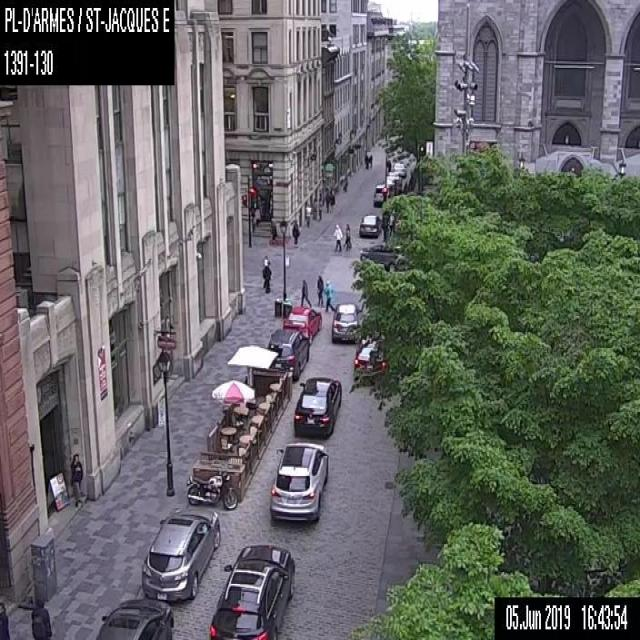pedestrian: (29, 598, 51, 638), (69, 452, 83, 509), (322, 280, 335, 312), (0, 601, 10, 639), (262, 259, 272, 294), (332, 222, 343, 251), (300, 277, 311, 305), (290, 219, 301, 245), (315, 274, 323, 306), (343, 222, 352, 250), (268, 218, 277, 246), (304, 203, 312, 228), (317, 196, 323, 220), (312, 197, 317, 220), (330, 190, 335, 212), (342, 174, 348, 191), (368, 153, 372, 168)
vehicle: (209, 544, 295, 639), (140, 510, 220, 601), (269, 442, 328, 522), (293, 376, 341, 438), (96, 600, 173, 638), (185, 467, 237, 509), (267, 328, 309, 379), (282, 305, 321, 343), (331, 300, 362, 342), (353, 340, 387, 375), (359, 243, 396, 271), (358, 214, 382, 238), (373, 183, 388, 206), (387, 172, 401, 186), (392, 163, 406, 176)
